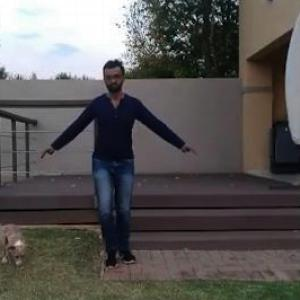land: (44, 68, 203, 248)
